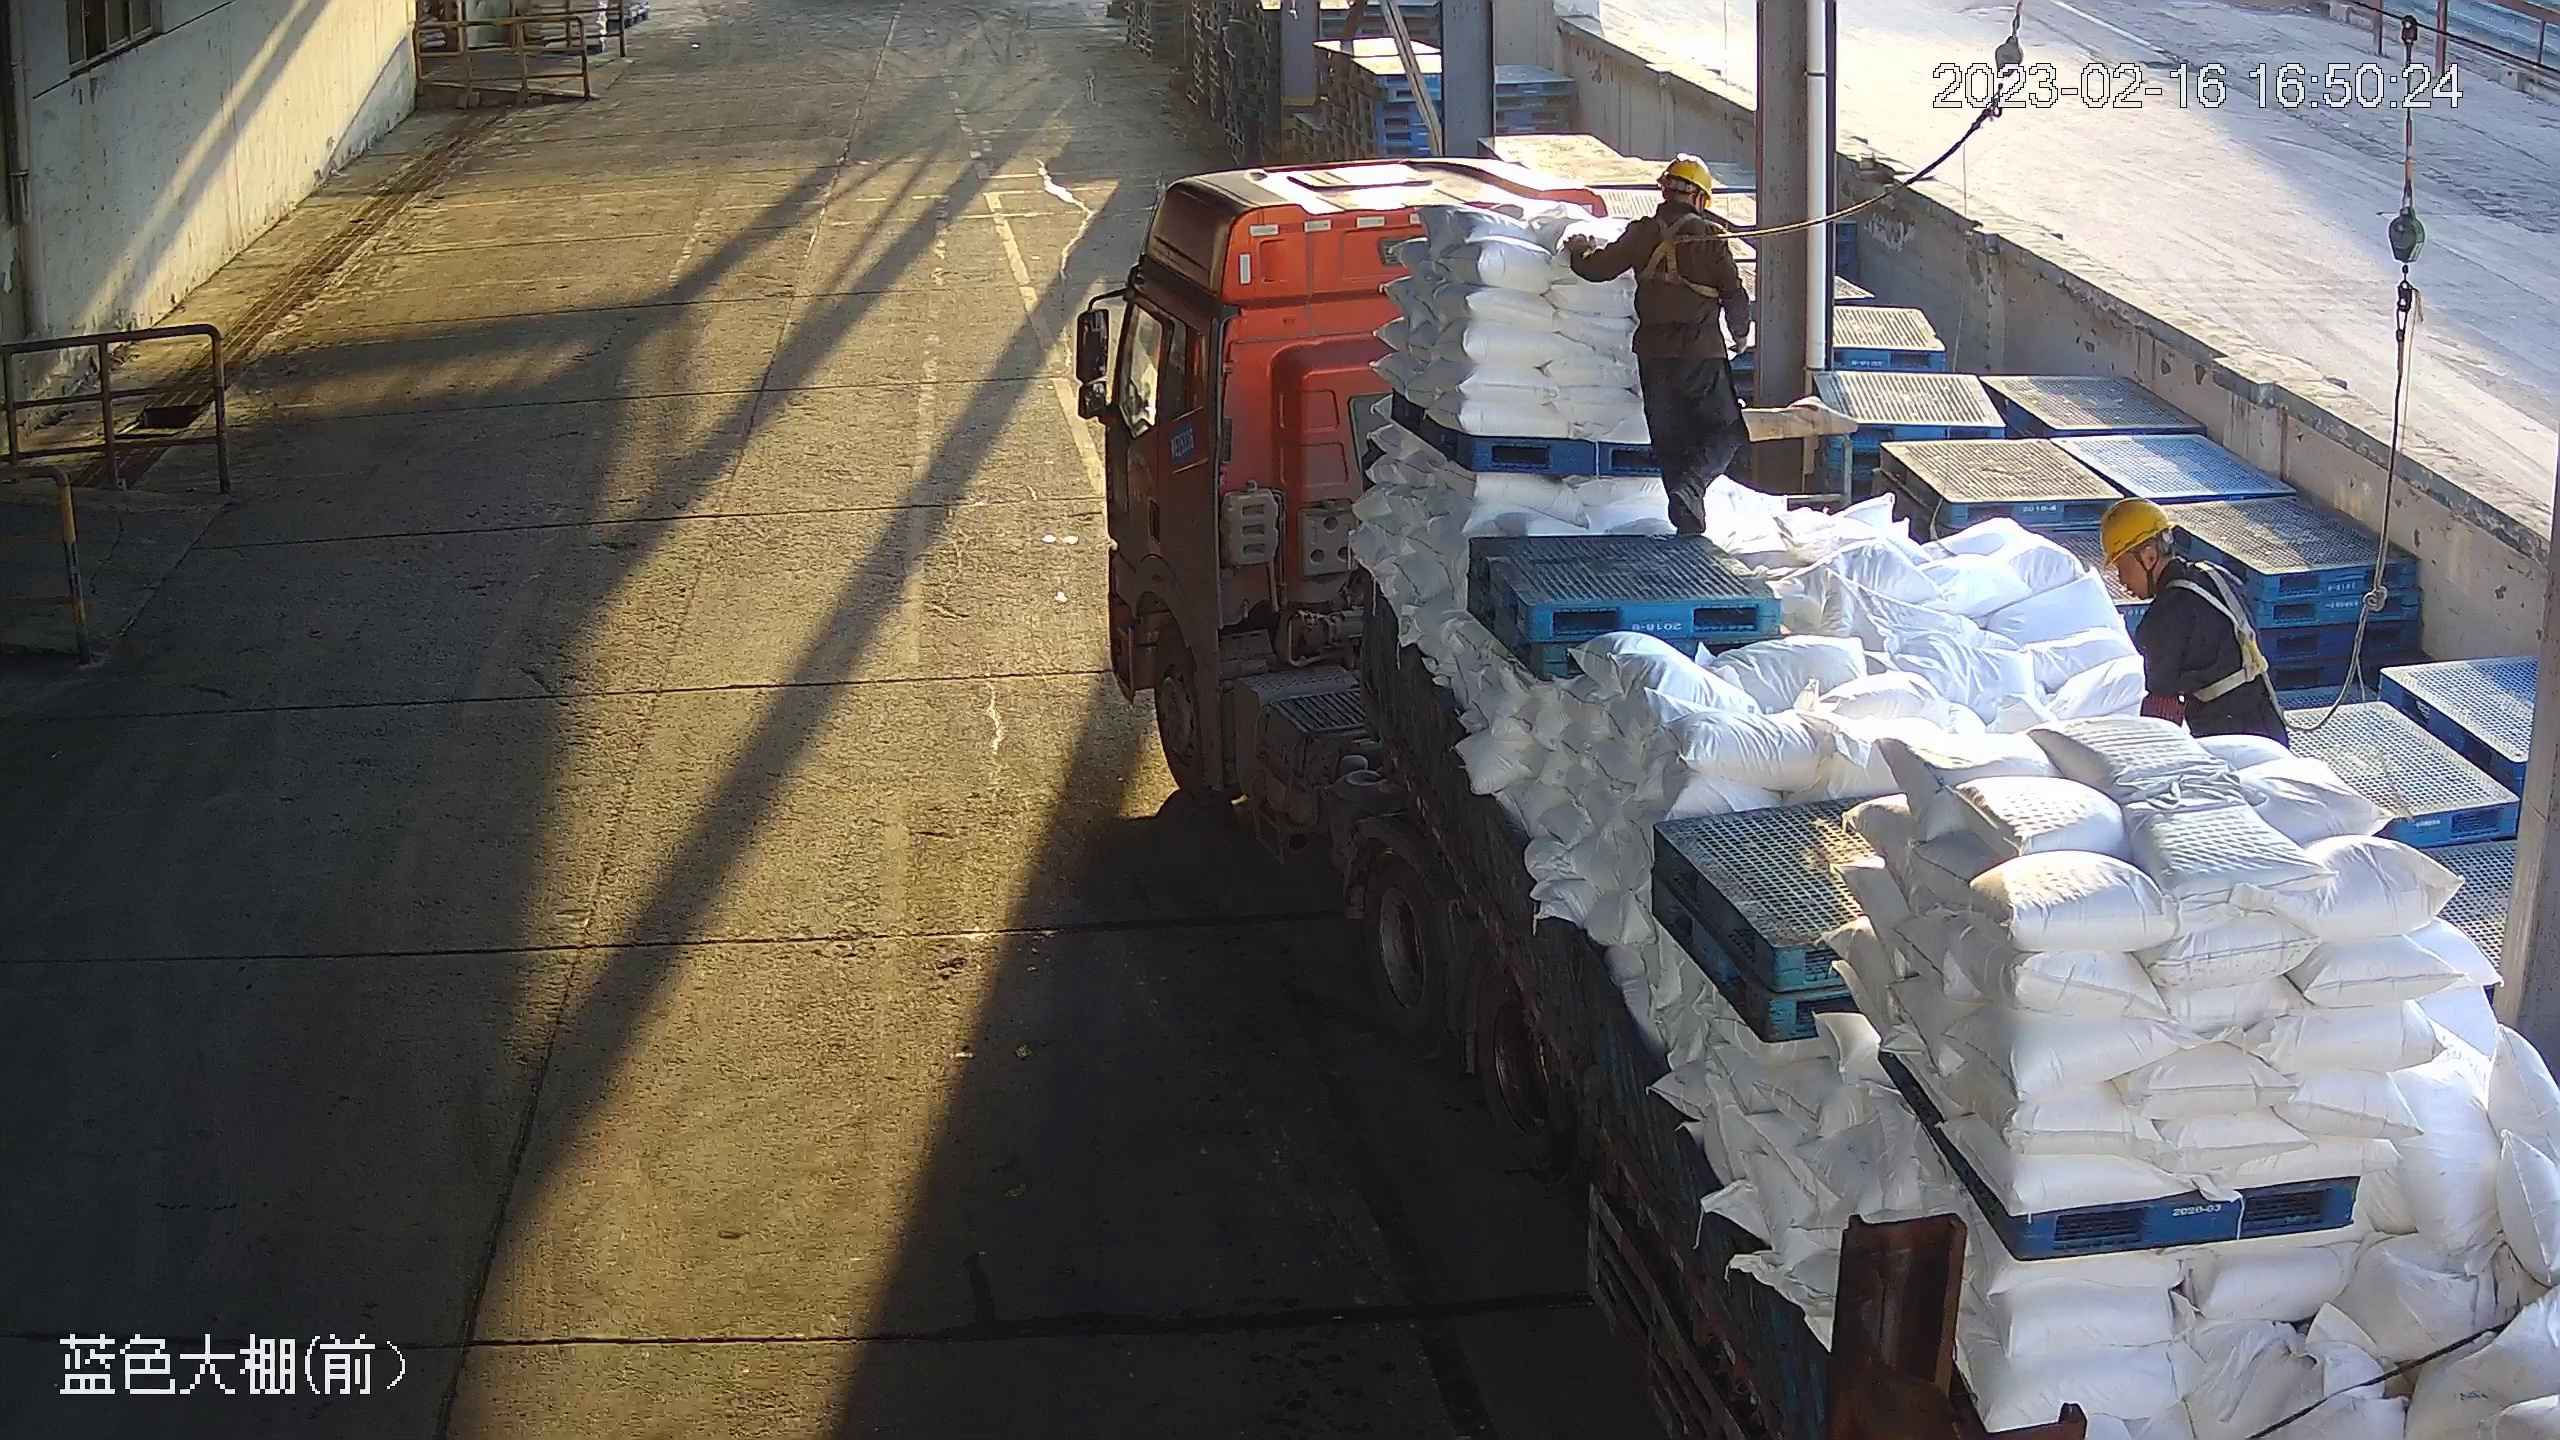belt: (2161, 561, 2277, 701), (1637, 213, 1726, 296)
head: (2099, 498, 2247, 640), (1619, 153, 1731, 257)
helmet: (2099, 497, 2177, 571), (1658, 152, 1715, 207)
people: (1561, 154, 1756, 533), (2100, 496, 2294, 747)
truck: (1067, 152, 2560, 1440)
